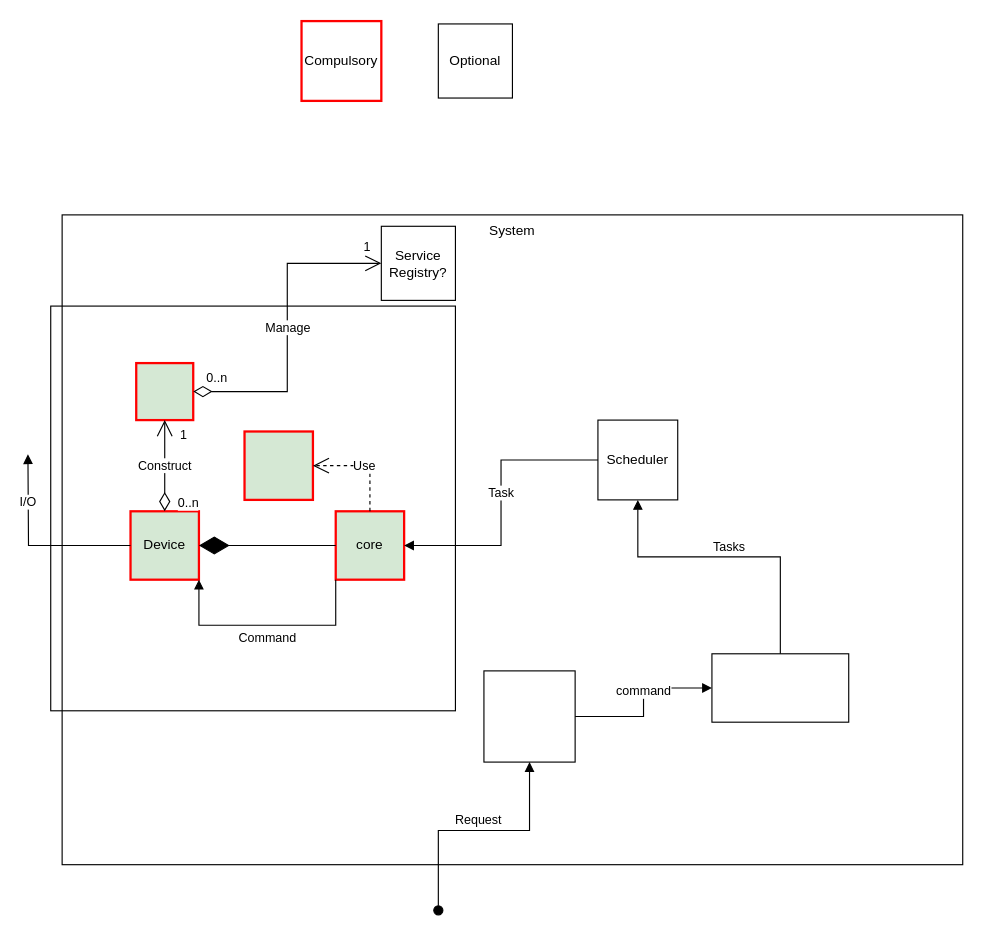
Image size: 983x943. Some labels were removed from this diagram. Here are the shapes that lost their labels. From the top down, the centre of each, then its label:
At point (164, 391): "Service".
At point (278, 465): "CoreCmd".
At point (780, 687): "interpreter".
At point (529, 716): "request listener".
